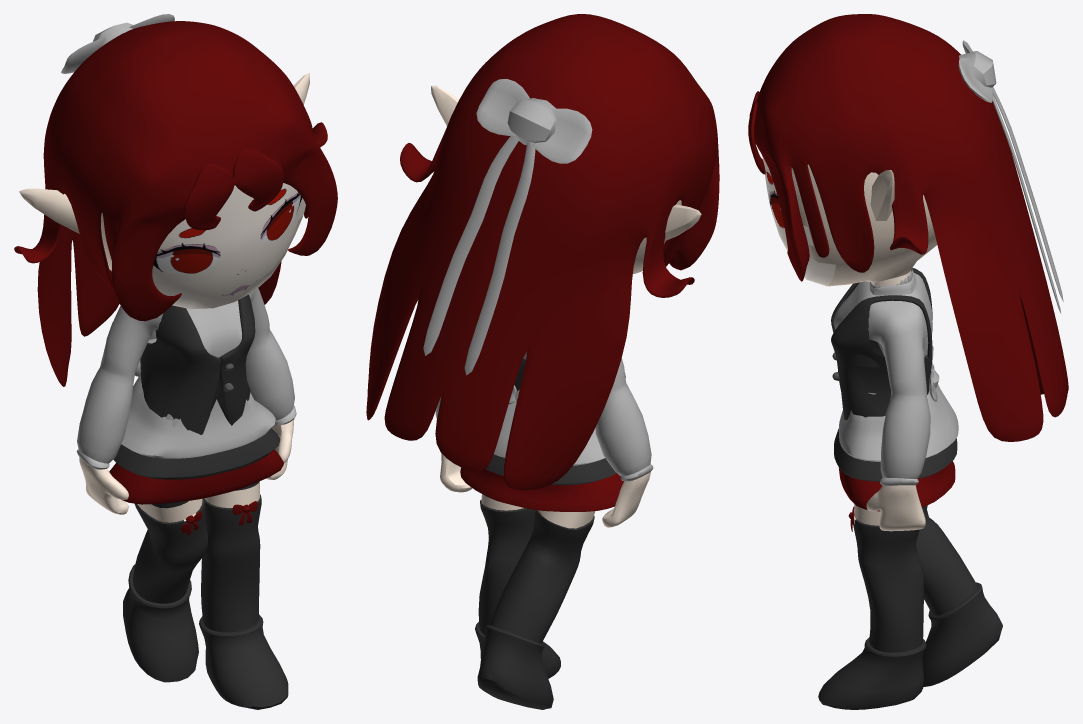
Rendered from Morwen chibi pose.fbx.
3 renders of one model, left to right at view 1: azimuth 30°, elevation 25°; view 2: azimuth 150°, elevation 25°; view 3: azimuth 270°, elevation 25°, orthographic. The views are drawn at different scales.
Visible parts, largest first — view 1: Roundcube.001; view 2: Roundcube.001; view 3: Roundcube.001.
Part boxes in pixels (x1,y1,x2,y2): Roundcube.001: (14, 14, 337, 709); Roundcube.001: (366, 14, 719, 709); Roundcube.001: (748, 14, 1068, 709).
Bounding box in the file's own units: 0.7827 × 1.67 × 0.7522.
